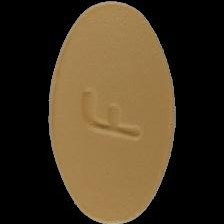65862-188: (0, 0, 224, 224)
